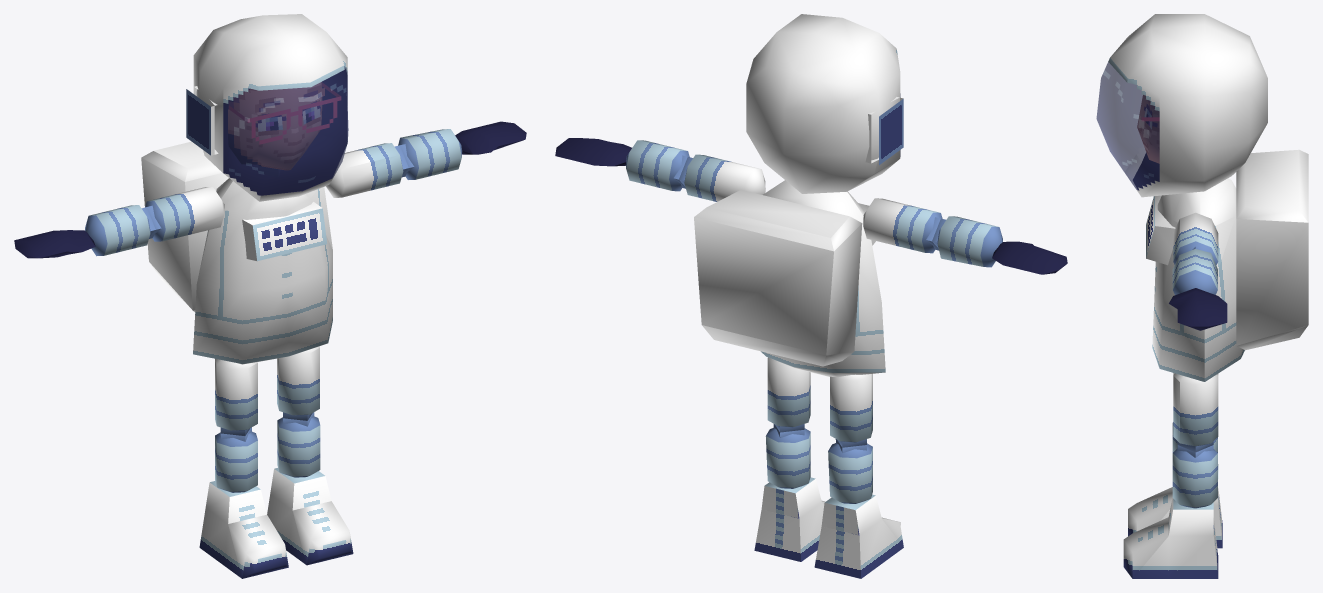
The model's file is character.gltf.
3 views of the same model, side by side, from view 1: azimuth 30°, elevation 25°; view 2: azimuth 150°, elevation 25°; view 3: azimuth 270°, elevation 25° (orthographic).
Visible parts, largest first — view 1: character, helmet, visor, backpack, foot_right, foot_left, face, arm_right, arm_left, leg_right, leg_left, forearm_right (+7 smaller); view 2: backpack, helmet, character, foot_right, foot_left, arm_right, leg_right, arm_left, leg_left, forearm_right, shin_left, shin_right (+4 smaller); view 3: helmet, backpack, character, foot_left, visor, leg_left, shin_left, hand_left, forarm_left, foot_right, arm_left, face.
Boxes of the visible parts, <box> form: character: <box>193,178,332,364</box>; helmet: <box>193,14,347,201</box>; visor: <box>223,66,348,195</box>; backpack: <box>141,141,228,312</box>; foot_right: <box>199,481,288,578</box>; foot_left: <box>267,468,353,565</box>; face: <box>228,82,321,169</box>; arm_right: <box>145,186,224,241</box>; arm_left: <box>326,143,408,197</box>; leg_right: <box>215,358,257,435</box>; leg_left: <box>277,346,319,420</box>; forearm_right: <box>85,205,155,256</box>; backpack: <box>694,190,862,366</box>; helmet: <box>746,14,900,193</box>; character: <box>761,180,885,377</box>; foot_right: <box>814,494,903,578</box>; foot_left: <box>754,477,825,561</box>; arm_right: <box>863,198,942,253</box>; leg_right: <box>830,374,872,447</box>; arm_left: <box>679,154,765,201</box>; leg_left: <box>767,357,810,432</box>; forearm_right: <box>932,216,1002,267</box>; shin_left: <box>765,424,810,488</box>; shin_right: <box>828,439,872,503</box>; helmet: <box>1108,14,1267,197</box>; backpack: <box>1236,149,1308,350</box>; character: <box>1146,178,1244,381</box>; foot_left: <box>1123,498,1218,578</box>; visor: <box>1096,62,1159,190</box>; leg_left: <box>1173,373,1218,452</box>; shin_left: <box>1172,445,1217,508</box>; hand_left: <box>1169,288,1227,330</box>; forarm_left: <box>1172,249,1217,295</box>; foot_right: <box>1128,464,1222,548</box>; arm_left: <box>1173,212,1218,264</box>; face: <box>1137,95,1159,163</box>.
Bounding box in the file's own units: 2.02 × 2.02 × 0.7344.
Materials: 2 (2 with a texture image).
